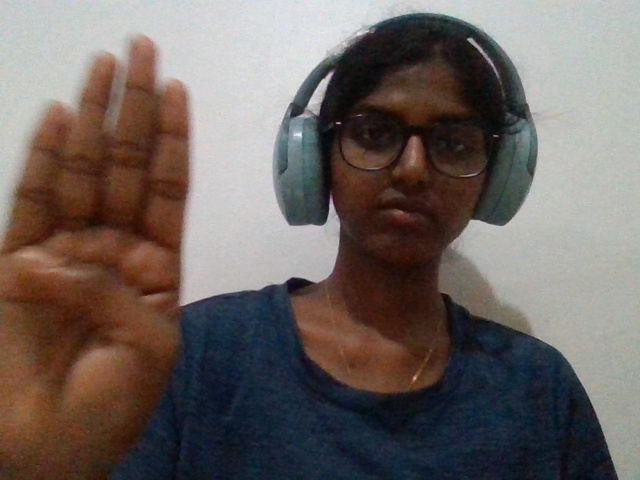B: (3, 30, 204, 474)
